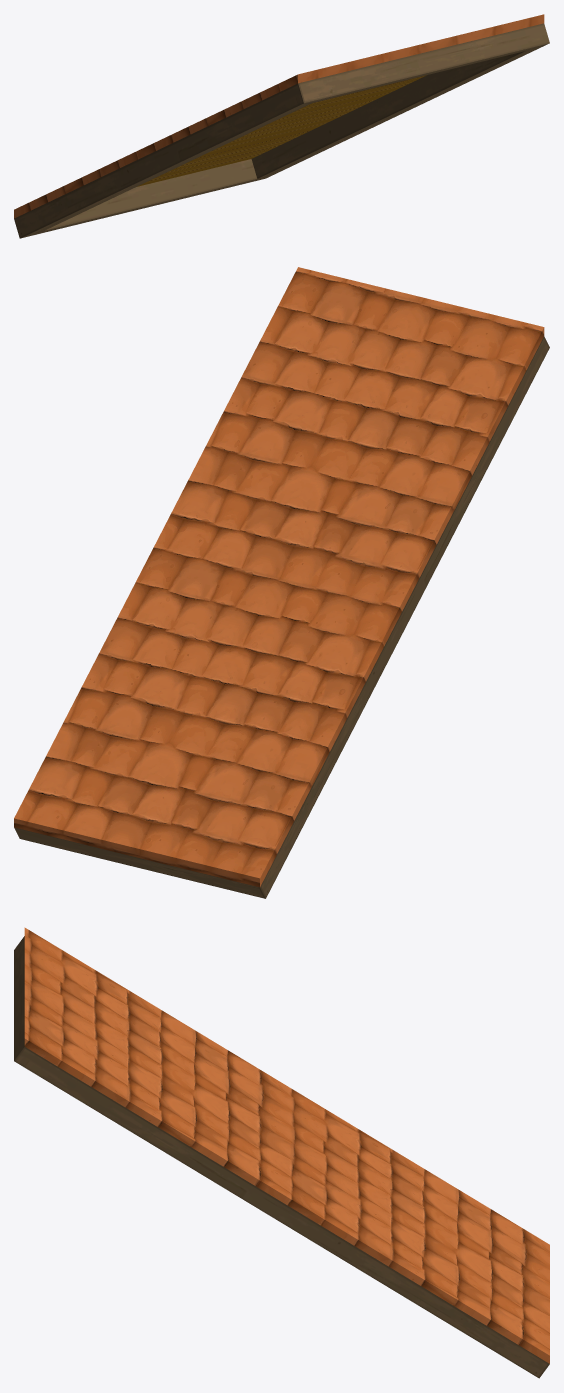
The model's file is SM_building_roof_19.glb.
3 views of the same model, one above another, from view 1: azimuth 30°, elevation 25°; view 2: azimuth 150°, elevation 25°; view 3: azimuth 270°, elevation 25° (orthographic). The views are drawn at different scales.
Visible parts, largest first — view 1: SM_building_roof_19; view 2: SM_building_roof_19; view 3: SM_building_roof_19.
Part boxes in pixels (x1,y1,x2,y2): SM_building_roof_19: [14, 14, 549, 238]; SM_building_roof_19: [14, 267, 549, 898]; SM_building_roof_19: [14, 927, 549, 1378].
Size of the model in its own units: 3 by 4.29 by 6.12.
Materials: 3 (3 with a texture image).
